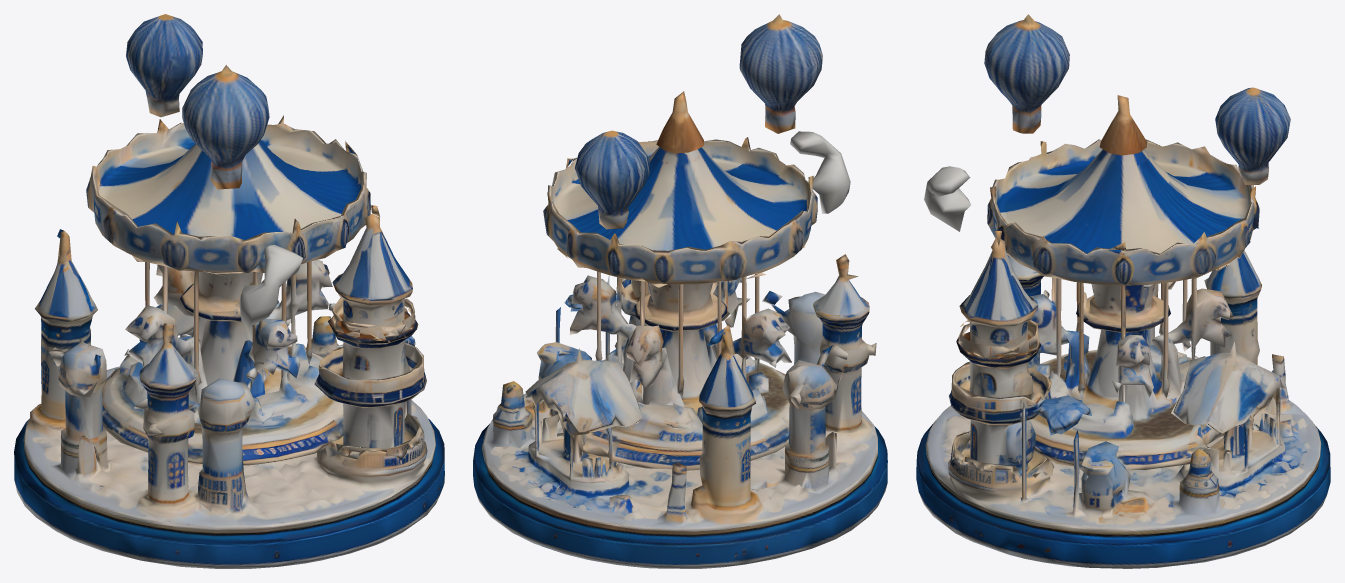
Rendered from decorative carousel 3d model.glb.
3 views of the same model, side by side, from view 1: azimuth 30°, elevation 25°; view 2: azimuth 150°, elevation 25°; view 3: azimuth 270°, elevation 25° (orthographic). The views are drawn at different scales.
Visible parts, largest first — view 1: tripo_node_0fc06880-fe2c-4cb4-b81e-e937833ceef1; view 2: tripo_node_0fc06880-fe2c-4cb4-b81e-e937833ceef1; view 3: tripo_node_0fc06880-fe2c-4cb4-b81e-e937833ceef1.
Boxes of the visible parts, x1,y1,x2,y2 form: tripo_node_0fc06880-fe2c-4cb4-b81e-e937833ceef1: (14,14,444,568); tripo_node_0fc06880-fe2c-4cb4-b81e-e937833ceef1: (473,14,887,568); tripo_node_0fc06880-fe2c-4cb4-b81e-e937833ceef1: (916,14,1330,568).
Size of the model in its own units: 0.7861 by 0.9948 by 0.7891.
1 material, 1 textured.
